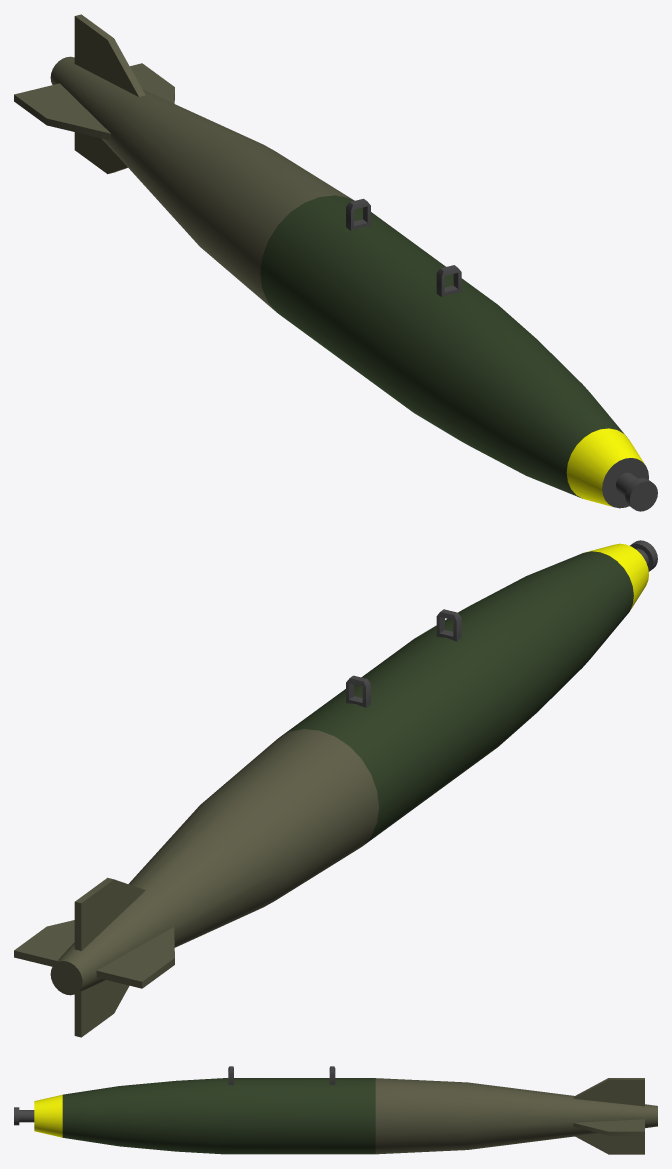
Rendered from MK-81 LDGP.glb.
The picture shows the model from 3 angles, top to bottom: view 1: azimuth 30°, elevation 25°; view 2: azimuth 150°, elevation 25°; view 3: azimuth 270°, elevation 25°; orthographic projection. The views are drawn at different scales.
Visible parts, largest first — view 1: Mk-82 Standard Tail; view 2: Mk-82 Standard Tail; view 3: Mk-82 Standard Tail.
Part boxes in pixels (box(x1,y1,x2,y2)): Mk-82 Standard Tail: box(14, 14, 657, 511); Mk-82 Standard Tail: box(14, 540, 657, 1037); Mk-82 Standard Tail: box(14, 1066, 657, 1154).
Size of the model in its own units: 0.2408 by 0.2744 by 1.88.
1 material, 1 textured.
